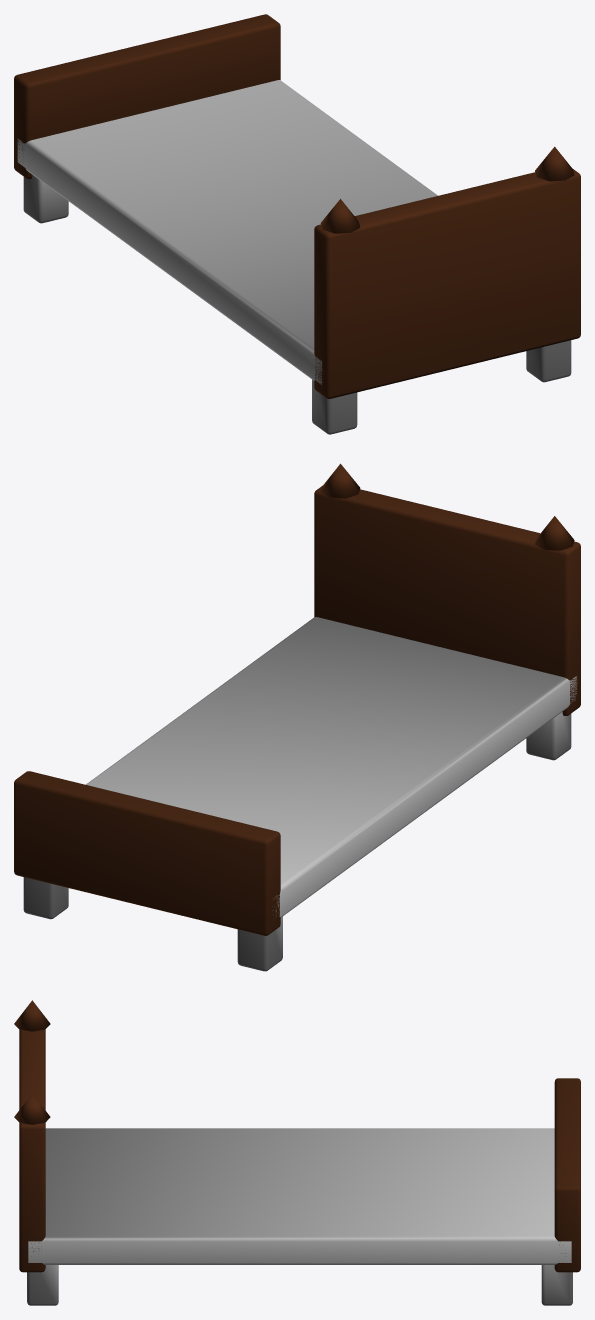
Rendered from bed-frame.obj.
The picture shows the model from 3 angles, top to bottom: view 1: azimuth 30°, elevation 25°; view 2: azimuth 150°, elevation 25°; view 3: azimuth 270°, elevation 25°; orthographic projection. The views are drawn at different scales.
Parts seen in each view (by area): view 1: bed-frame; view 2: bed-frame; view 3: bed-frame.
Part boxes in pixels (bbox=[...]): bed-frame: bbox=[14, 14, 580, 434]; bed-frame: bbox=[14, 463, 580, 971]; bed-frame: bbox=[14, 1000, 580, 1305].
Size of the model in its own units: 1 by 0.87 by 2.16.
